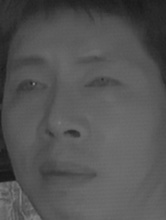eye: (77, 69, 125, 96), (11, 72, 49, 99)
mouth: (38, 153, 97, 192)
